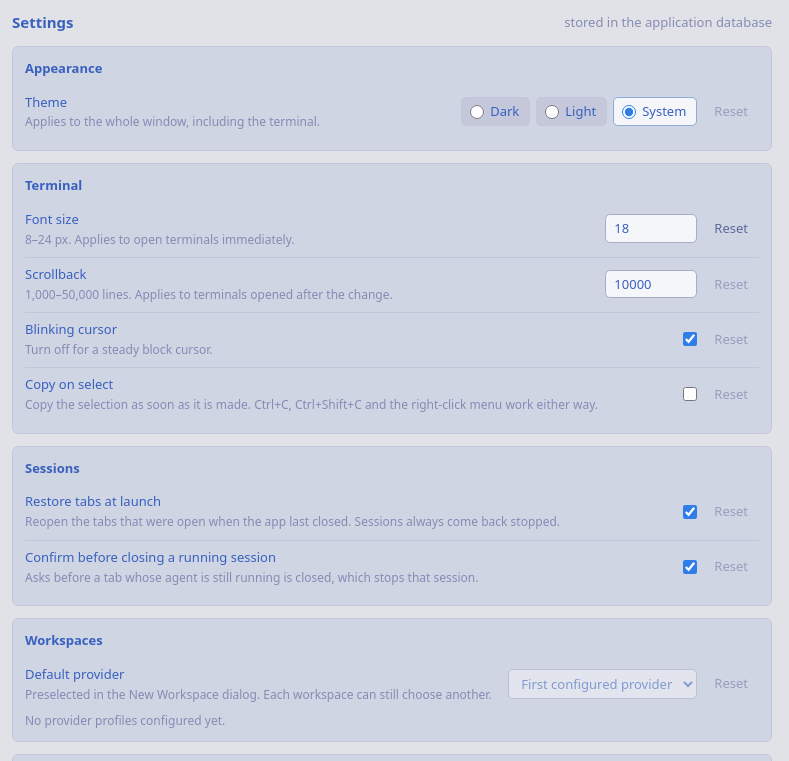
SettingsPanel: writing a setting › rolls the control back and reports the reason when the write fails
Expected: the text "stored in the application database" is shown, x1=564 y1=14 x2=772 y2=32
Replace the text in the number field named "Font size in pixels" with "20" at point(651, 229), box x1=605 y1=214 x2=697 y2=243
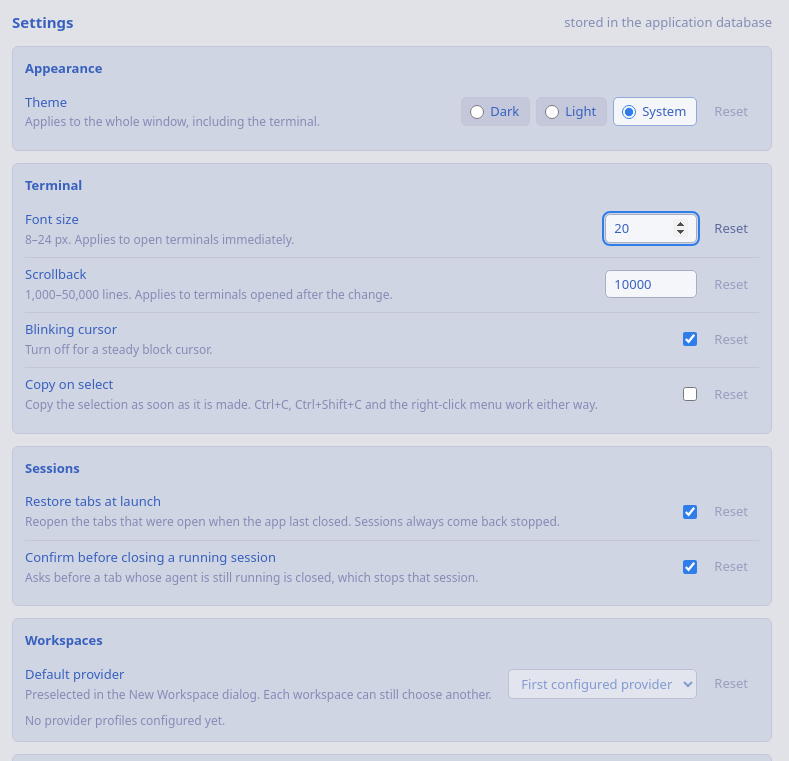
Press Enter
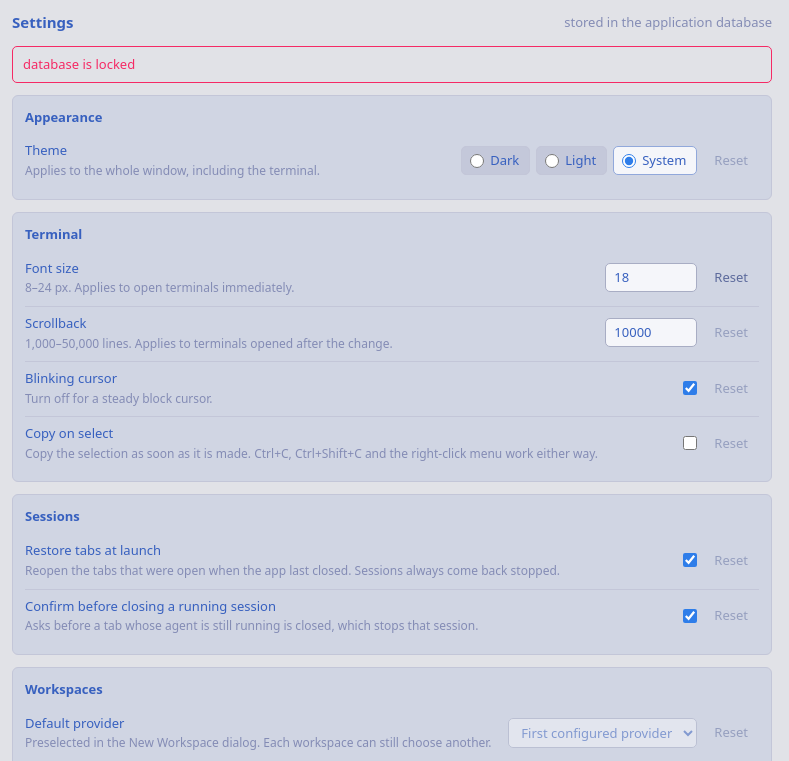
Expected: the message reads "database is locked", x1=23 y1=55 x2=135 y2=73
Expected: the number field named "Font size in pixels" holds "18", x1=605 y1=263 x2=697 y2=292
